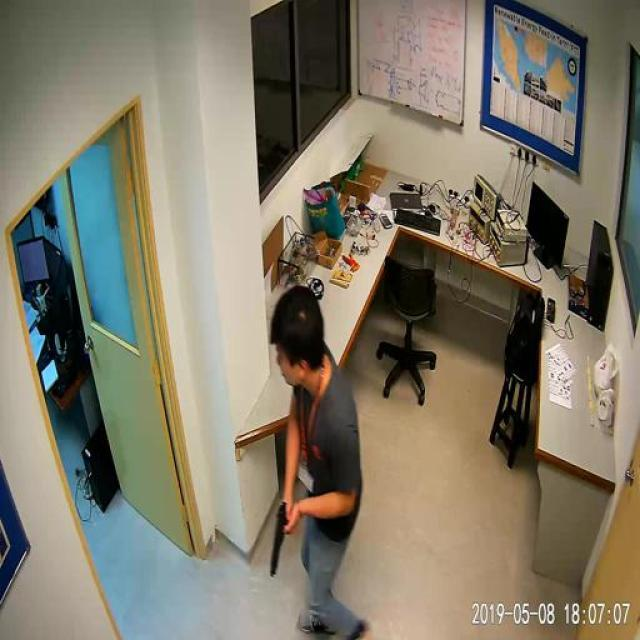Gun: (258, 503, 310, 575)
